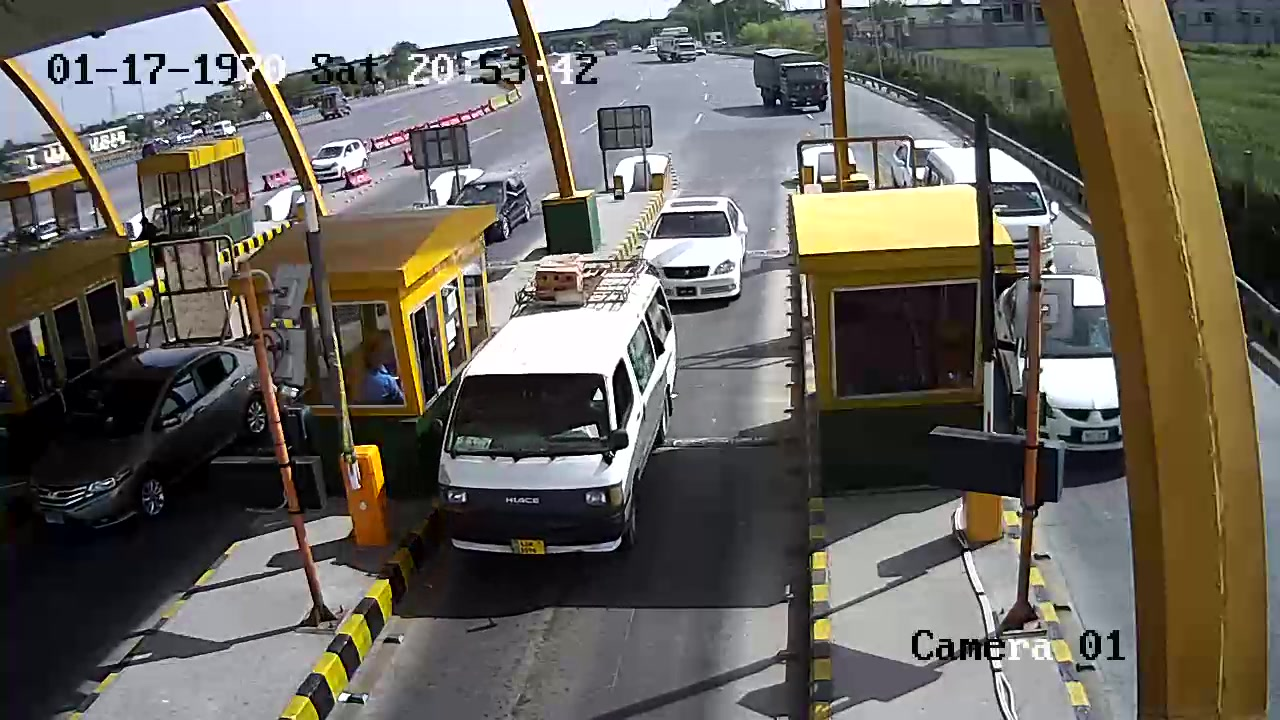F3: (442, 261, 669, 561)
